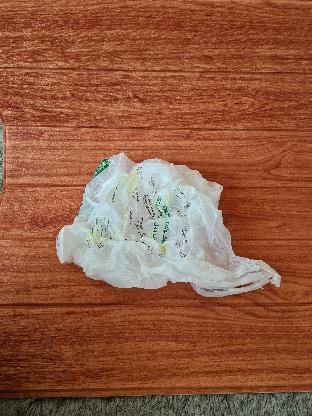Plastic Bag: (55, 150, 283, 298)
